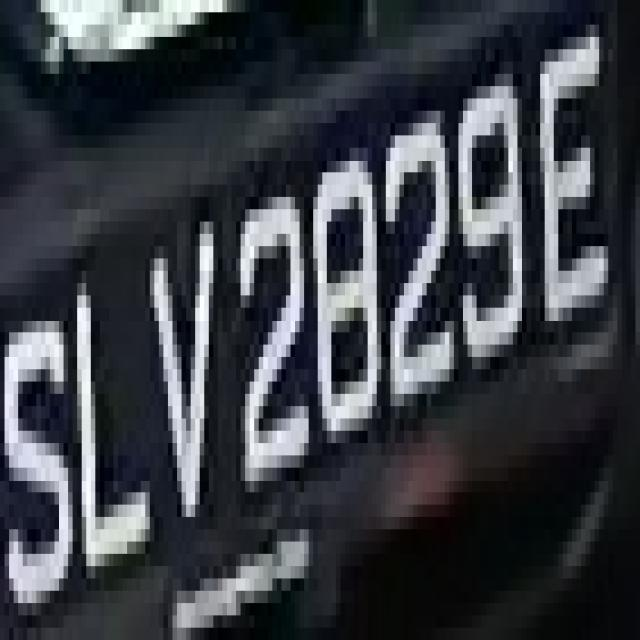2: (368, 74, 458, 431), (227, 160, 318, 505)
8: (308, 135, 399, 492)
9: (449, 61, 531, 418)
E: (536, 37, 612, 394)
L: (73, 234, 154, 615)
S: (5, 259, 72, 603)
V: (136, 197, 222, 541)
